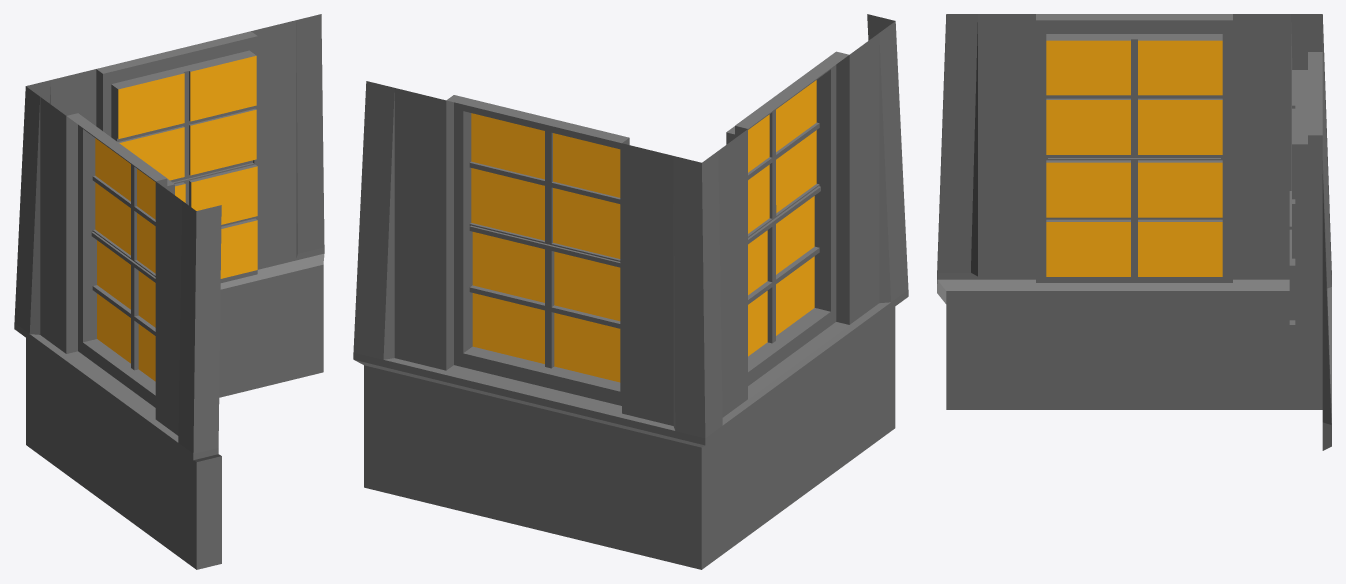
File: O_Fenêtre_Avance_maison_Gauche.fbx
The picture shows the model from 3 angles, left to right: view 1: azimuth 30°, elevation 25°; view 2: azimuth 150°, elevation 25°; view 3: azimuth 270°, elevation 25°; orthographic projection. The views are drawn at different scales.
Visible parts, largest first — view 1: O_Fenêtre_Avance_maison_Gauche; view 2: O_Fenêtre_Avance_maison_Gauche; view 3: O_Fenêtre_Avance_maison_Gauche.
Boxes of the visible parts, left/top/right/bottom form: O_Fenêtre_Avance_maison_Gauche: left=14, top=14, right=324, bottom=569; O_Fenêtre_Avance_maison_Gauche: left=353, top=14, right=908, bottom=569; O_Fenêtre_Avance_maison_Gauche: left=937, top=14, right=1331, bottom=450.
Size of the model in its own units: 2.72 by 2.72 by 3.01.
